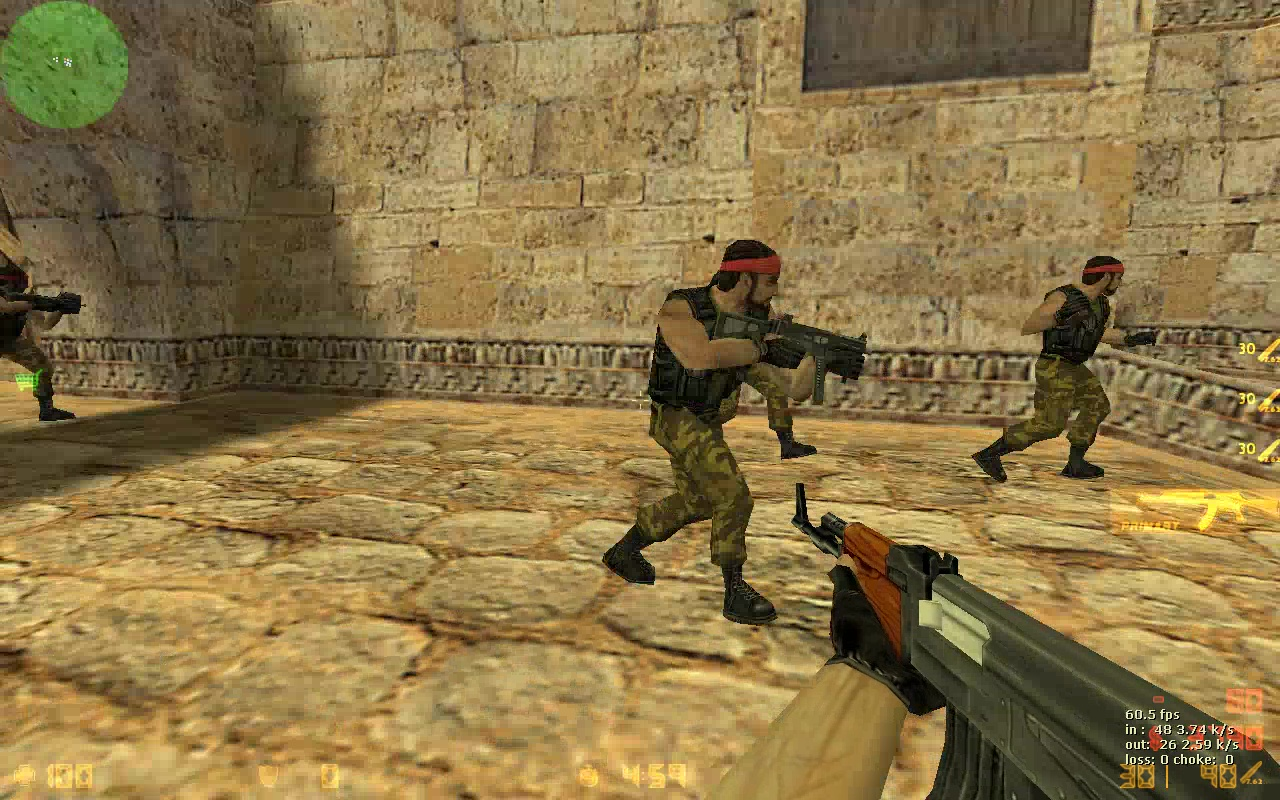terr1: (598, 236, 848, 627), (972, 253, 1163, 486), (1, 269, 81, 426)
